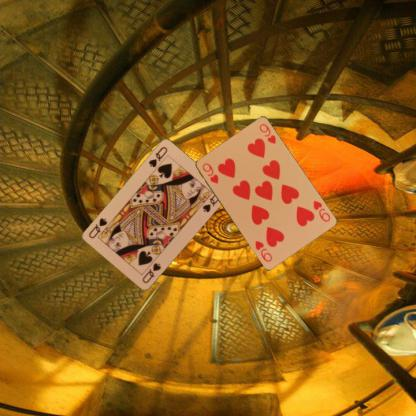9h: (310, 198, 331, 223), (200, 160, 220, 185)
Qs: (140, 260, 162, 285), (146, 144, 168, 169)
